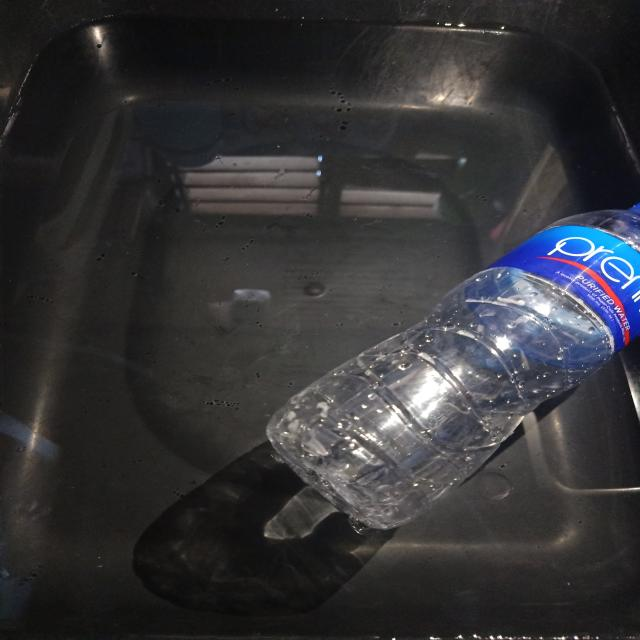Plastic Bottle: (267, 204, 640, 529)
